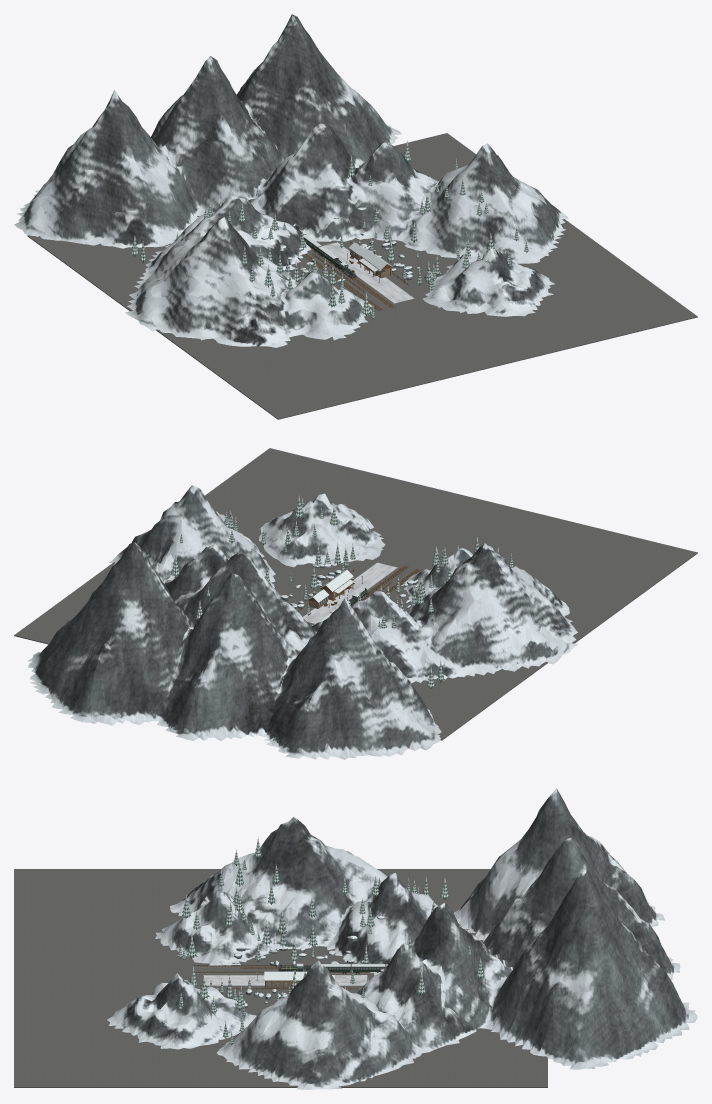
Rendered from alpine.glb.
The picture shows the model from 3 angles, top to bottom: view 1: azimuth 30°, elevation 25°; view 2: azimuth 150°, elevation 25°; view 3: azimuth 270°, elevation 25°; orthographic projection. The views are drawn at different scales.
Parts seen in each view (by area): view 1: Stacioni alpin; view 2: Stacioni alpin; view 3: Stacioni alpin.
Boxes of the visible parts, left/top/right/bottom form: Stacioni alpin: left=14, top=14, right=697, bottom=419; Stacioni alpin: left=14, top=448, right=697, bottom=759; Stacioni alpin: left=14, top=788, right=697, bottom=1089.
Bounding box in the file's own units: 236 × 72.94 × 305.
Materials: 29 (17 with a texture image).
